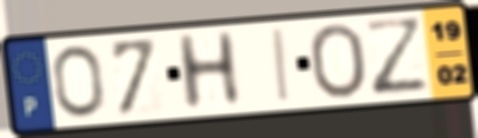7: (109, 35, 160, 118)
H: (172, 29, 245, 114)
I: (272, 25, 294, 106)
O: (306, 21, 370, 101), (50, 43, 108, 119)
Z: (360, 16, 433, 100)
